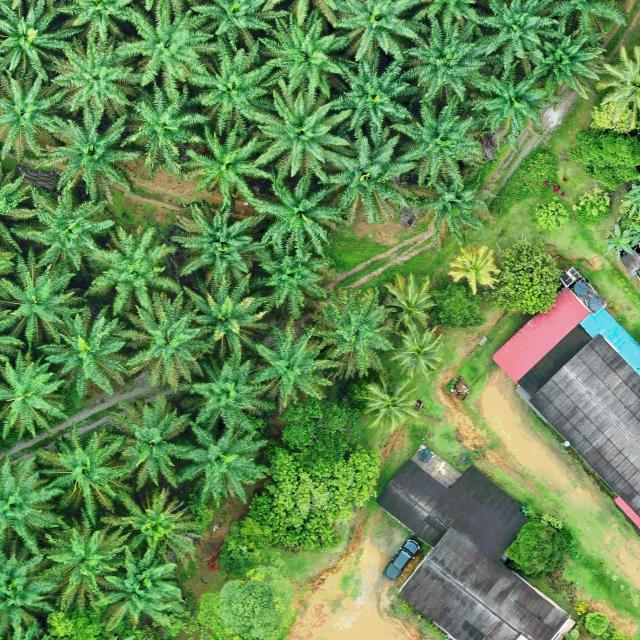Tree: (215, 396, 382, 578), (236, 83, 354, 184), (33, 103, 144, 207), (5, 180, 117, 274), (112, 290, 211, 392), (315, 126, 417, 225), (102, 388, 199, 490), (184, 34, 278, 136), (83, 222, 182, 318), (112, 0, 218, 88), (301, 283, 396, 381), (174, 412, 272, 506), (38, 512, 124, 616), (389, 96, 484, 190), (38, 302, 130, 399), (98, 478, 196, 567), (185, 276, 278, 368), (250, 168, 343, 260), (124, 79, 210, 177), (37, 426, 132, 514), (257, 4, 345, 99), (170, 198, 262, 288), (399, 15, 490, 104), (406, 162, 501, 246), (188, 346, 278, 434), (41, 31, 136, 112), (0, 451, 69, 562), (463, 55, 552, 141), (321, 52, 414, 132), (0, 349, 70, 454), (102, 550, 185, 637), (199, 568, 299, 640), (316, 0, 426, 63), (252, 324, 333, 408), (0, 262, 82, 344), (524, 21, 608, 101), (183, 123, 270, 200), (0, 530, 60, 639), (0, 73, 69, 167), (472, 0, 566, 66), (252, 247, 333, 323), (0, 0, 71, 79), (498, 239, 564, 315), (190, 0, 291, 49), (566, 126, 640, 190), (504, 514, 571, 576), (384, 320, 446, 385), (360, 368, 422, 433), (380, 272, 438, 331), (448, 244, 500, 296), (432, 278, 485, 329), (602, 224, 635, 258), (620, 183, 640, 219)
